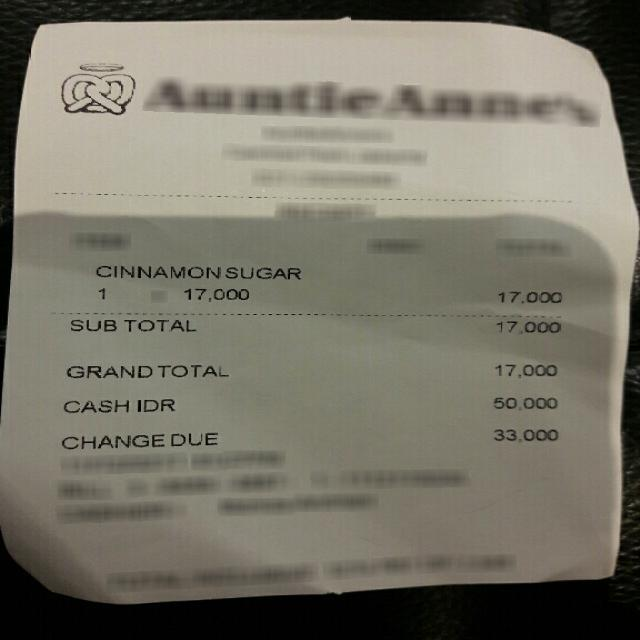kertas: (4, 19, 636, 604)
